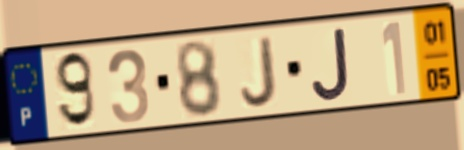1: (380, 20, 409, 97)
3: (105, 47, 150, 125)
8: (173, 38, 224, 119)
9: (52, 50, 99, 133)
J: (309, 24, 352, 103), (238, 33, 279, 110)
